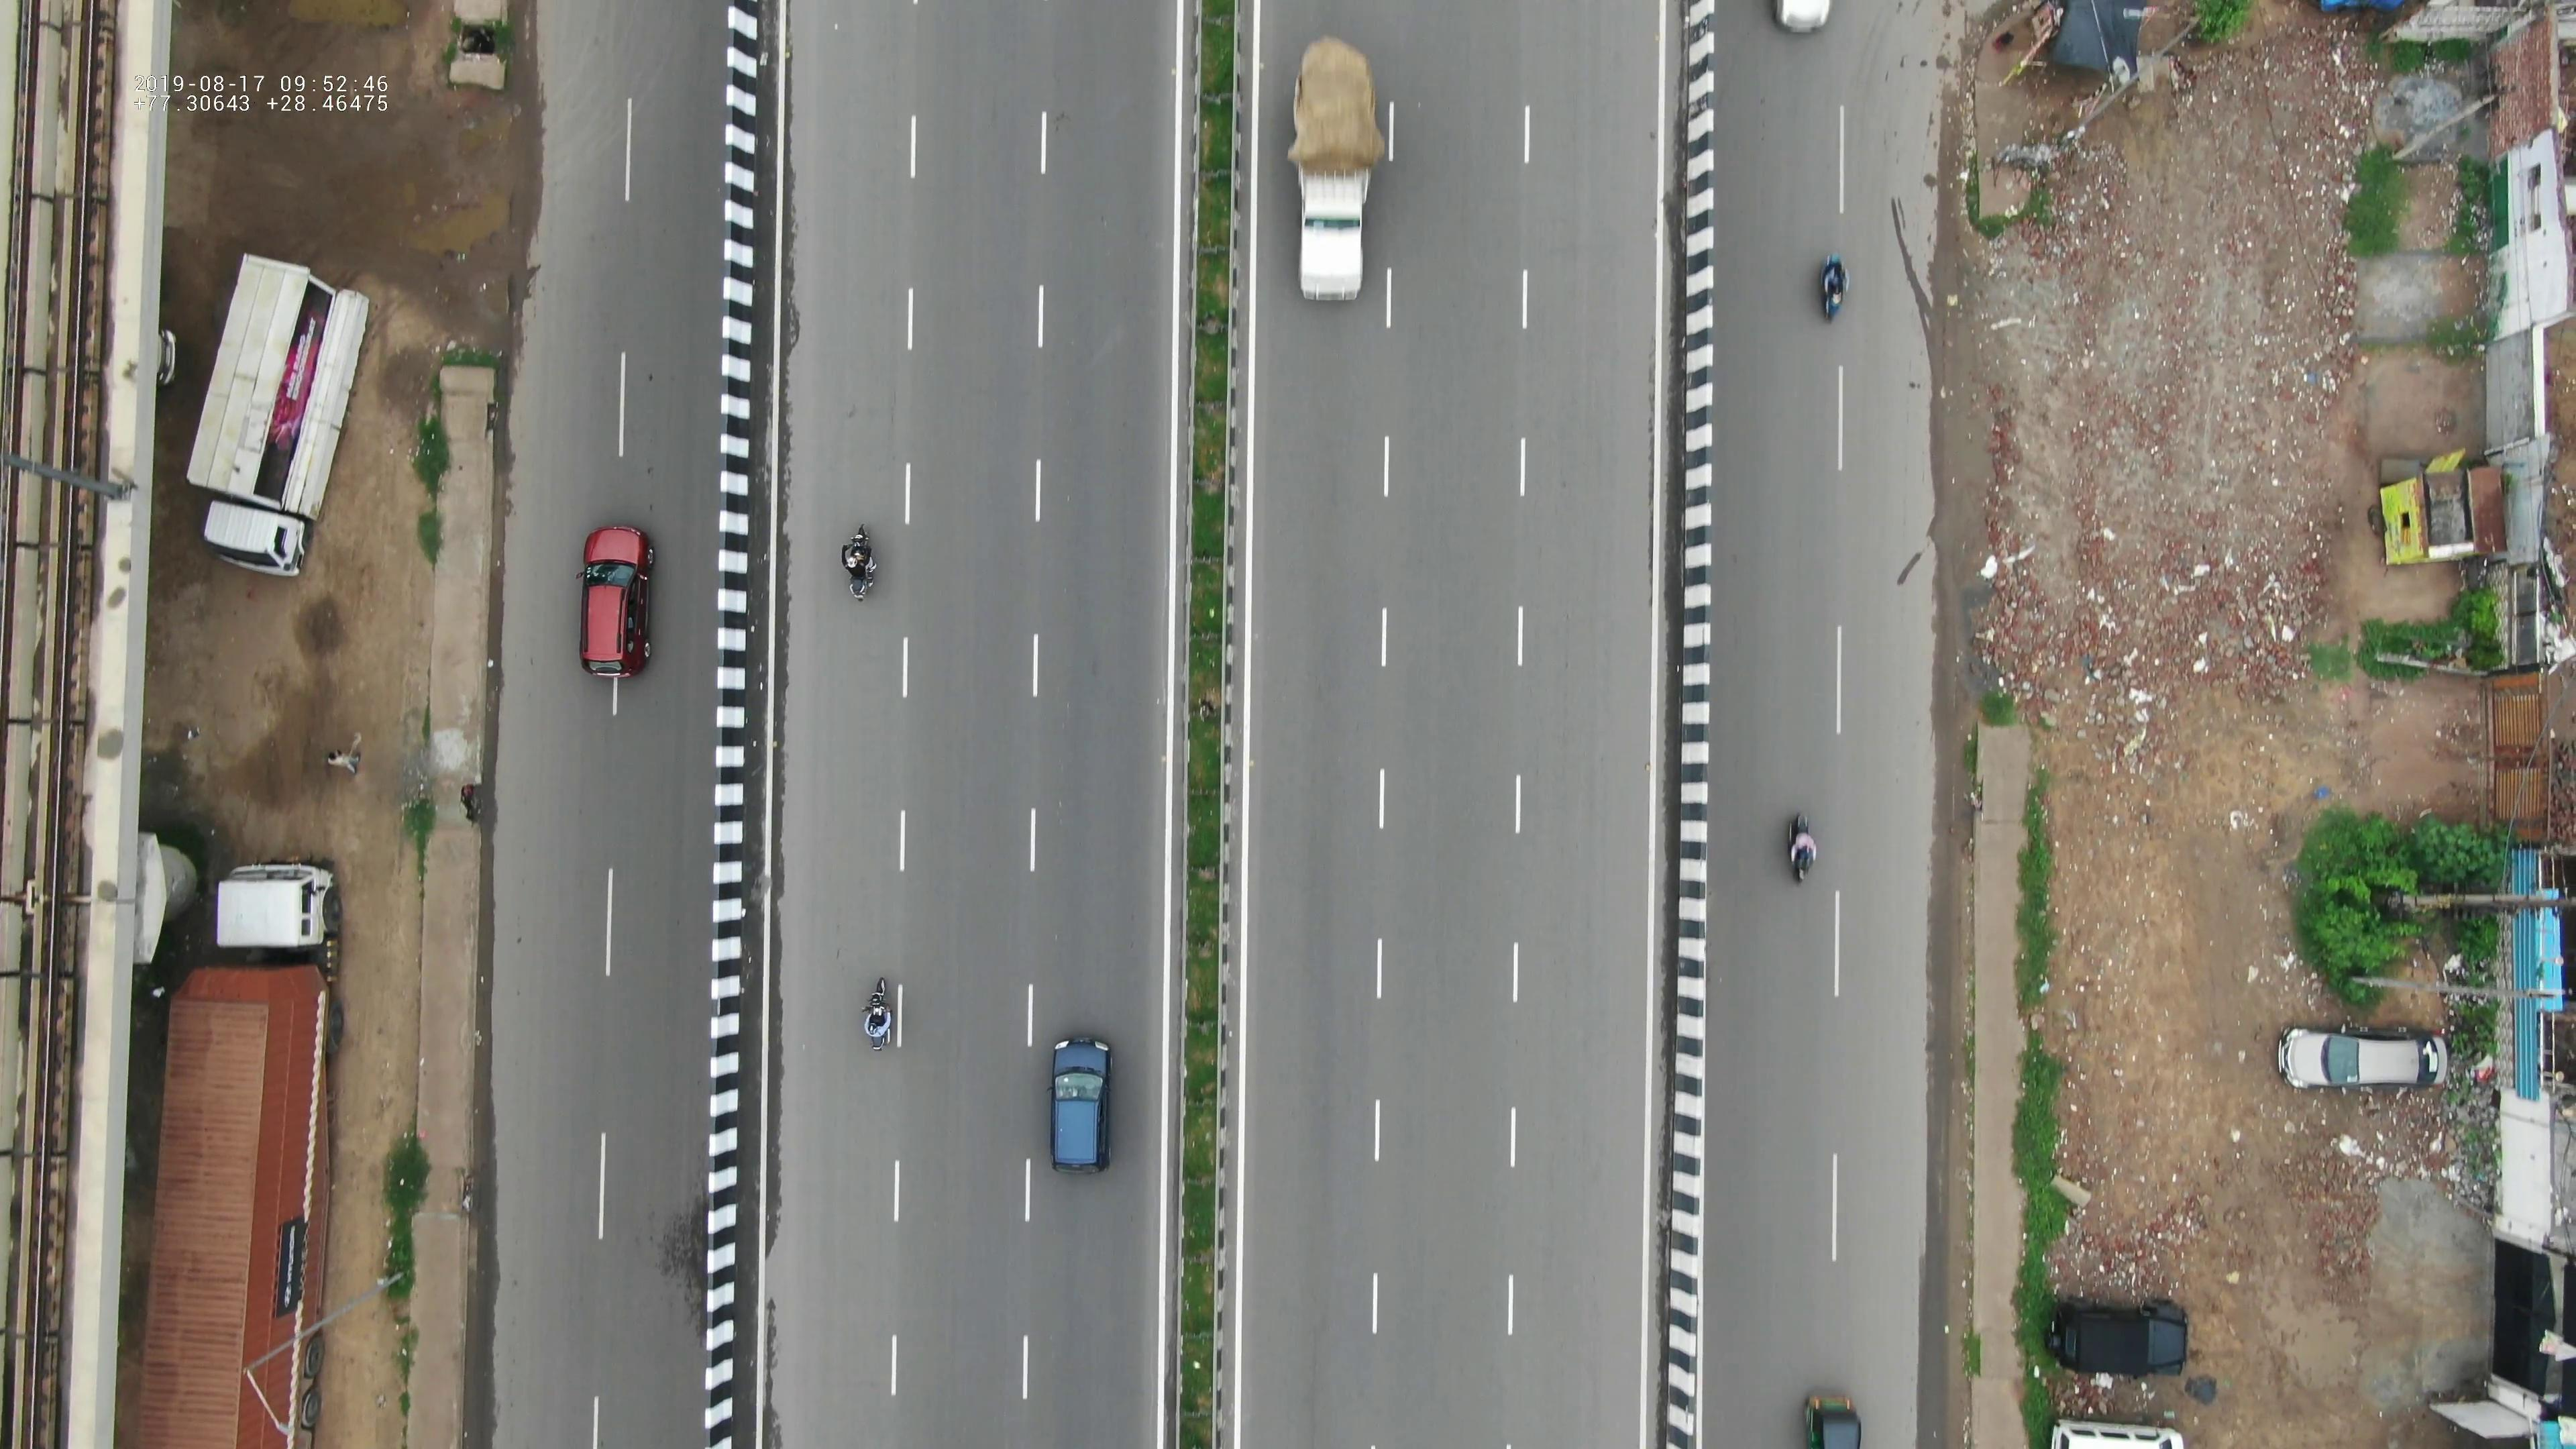Muddy_road: (1936, 391, 1996, 732), (458, 97, 550, 295), (1920, 97, 1980, 364)
